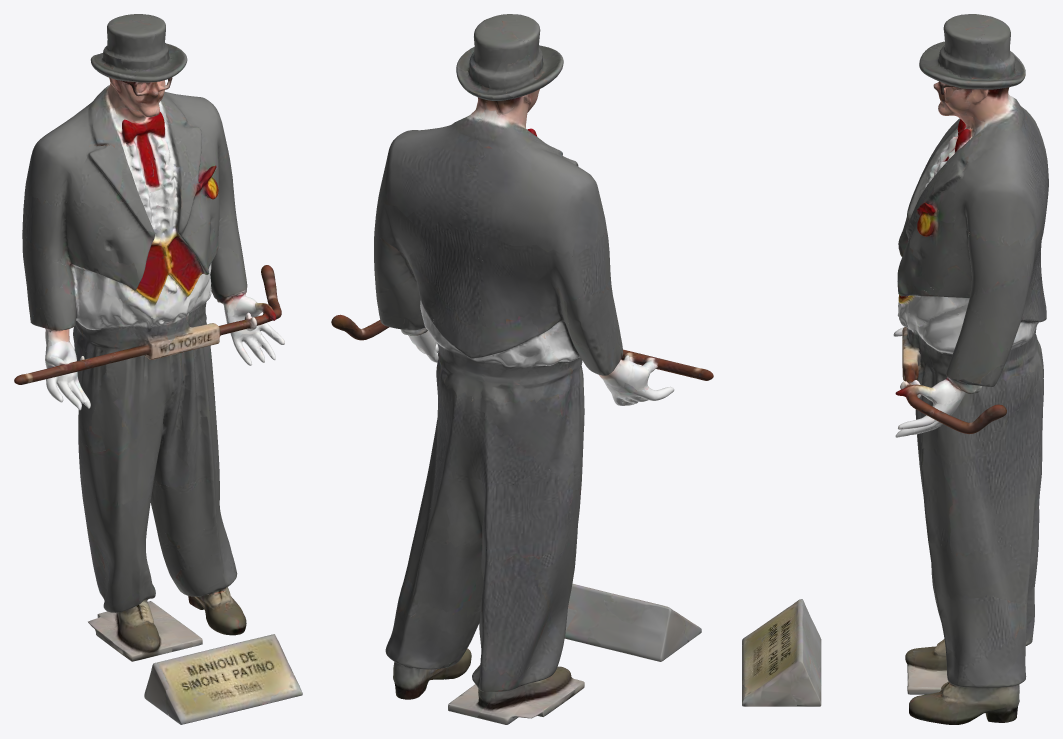
The model's file is traje_patino.glb.
3 renders of one model, left to right at view 1: azimuth 30°, elevation 25°; view 2: azimuth 150°, elevation 25°; view 3: azimuth 270°, elevation 25°, orthographic. The views are drawn at different scales.
Visible parts, largest first — view 1: Mesh_0.001; view 2: Mesh_0.001; view 3: Mesh_0.001.
Part boxes in pixels (x1,y1,x2,y2): Mesh_0.001: (14, 14, 302, 724); Mesh_0.001: (331, 14, 713, 724); Mesh_0.001: (742, 14, 1048, 724).
Size of the model in its own units: 0.9774 by 1.9 by 0.808.
Materials: 1 (1 with a texture image).
